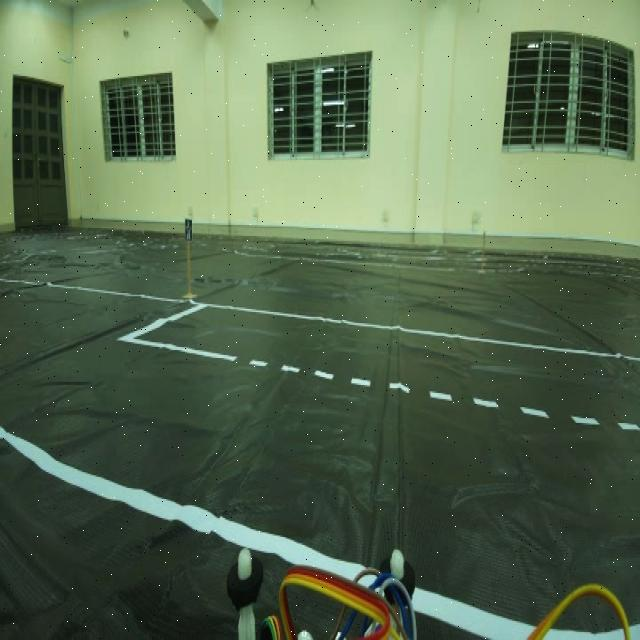highway_exit: (182, 212, 197, 250)
